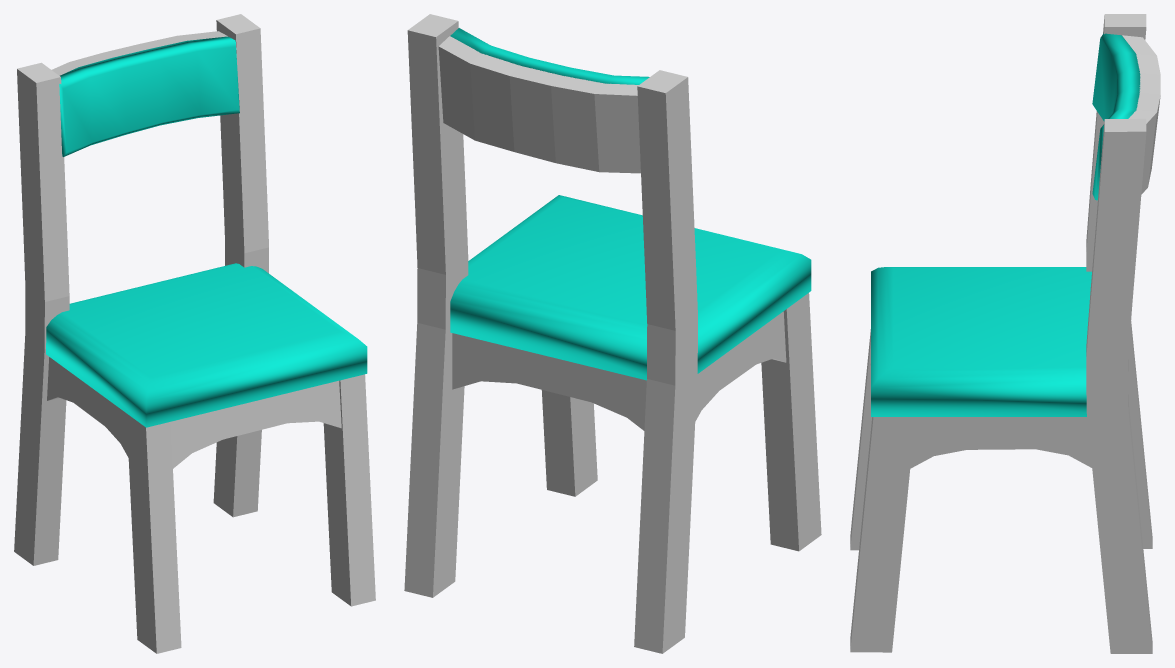
File: chair_tier6.fbx
3 renders of one model, left to right at view 1: azimuth 30°, elevation 25°; view 2: azimuth 150°, elevation 25°; view 3: azimuth 270°, elevation 25°, orthographic. The views are drawn at different scales.
Parts seen in each view (by area): view 1: Cube, Cube.014, Cube.005, Cube.001, Cube.002, Cube.003, Cube.008, Cube.016, Cube.004; view 2: Cube, Cube.014, Cube.001, Cube.004, Cube.002, Cube.007, Cube.003, Cube.016, Cube.005; view 3: Cube, Cube.001, Cube.003, Cube.006, Cube.014, Cube.005, Cube.004, Cube.002.
Boxes of the visible parts, left/top/right/bottom form: Cube: left=46, top=263, right=367, bottom=427; Cube.014: left=14, top=62, right=69, bottom=565; Cube.005: left=59, top=36, right=239, bottom=156; Cube.001: left=213, top=14, right=268, bottom=517; Cube.002: left=126, top=414, right=181, bottom=653; Cube.003: left=323, top=374, right=375, bottom=606; Cube.008: left=170, top=380, right=341, bottom=468; Cube.016: left=47, top=357, right=128, bottom=457; Cube.004: left=52, top=31, right=227, bottom=75; Cube: left=450, top=195, right=811, bottom=380; Cube.014: left=634, top=70, right=697, bottom=653; Cube.001: left=404, top=14, right=468, bottom=597; Cube.004: left=438, top=36, right=640, bottom=173; Cube.002: left=761, top=293, right=821, bottom=551; Cube.007: left=452, top=333, right=646, bottom=430; Cube.003: left=541, top=390, right=597, bottom=496; Cube.016: left=695, top=311, right=786, bottom=421; Cube.005: left=450, top=28, right=649, bottom=84; Cube: left=871, top=267, right=1091, bottom=416; Cube.001: left=1086, top=118, right=1152, bottom=653; Cube.003: left=850, top=417, right=915, bottom=652; Cube.006: left=910, top=417, right=1091, bottom=468; Cube.014: left=1086, top=14, right=1152, bottom=548; Cube.005: left=1092, top=33, right=1140, bottom=200; Cube.004: left=1122, top=35, right=1160, bottom=194; Cube.002: left=850, top=329, right=872, bottom=550.
Bounding box in the file's own units: 51.61 × 107 × 57.51.
